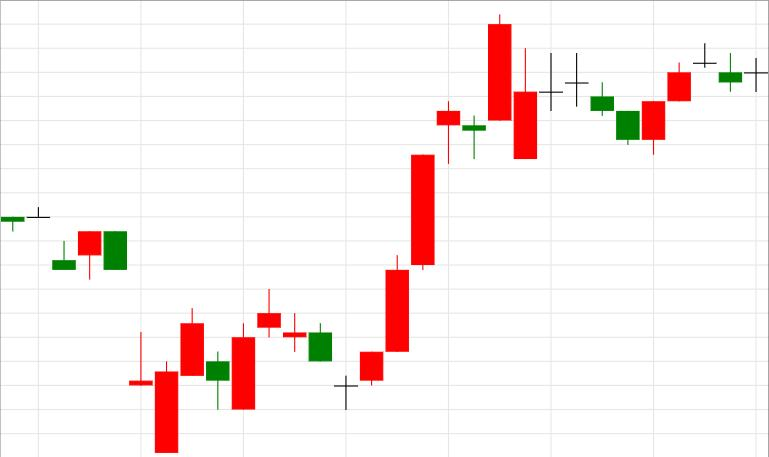three_white_soldiers_rise: (258, 154, 434, 409)
